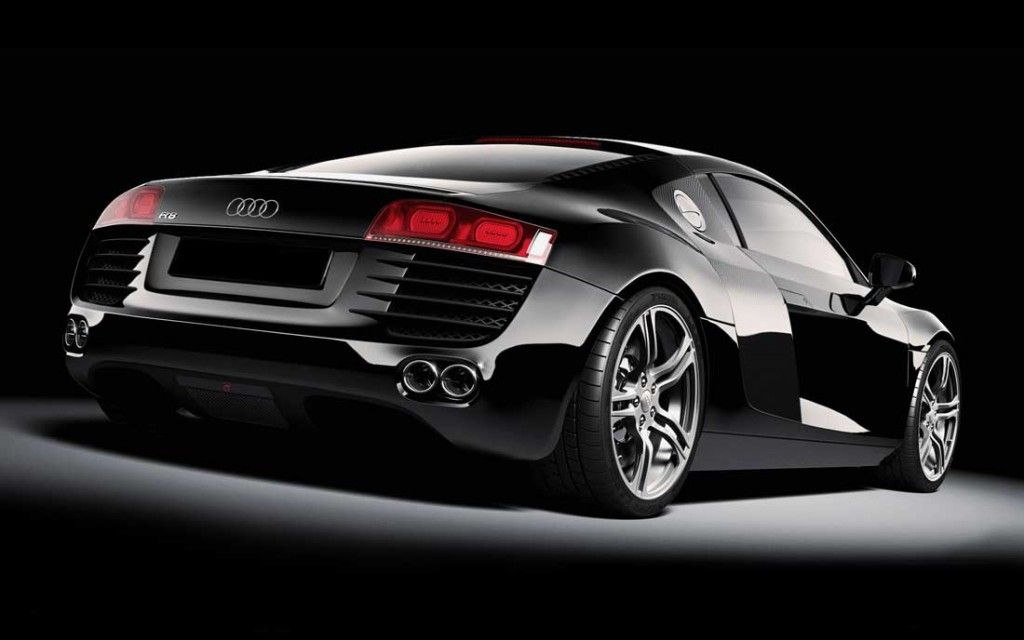audi: (64, 108, 984, 520)
